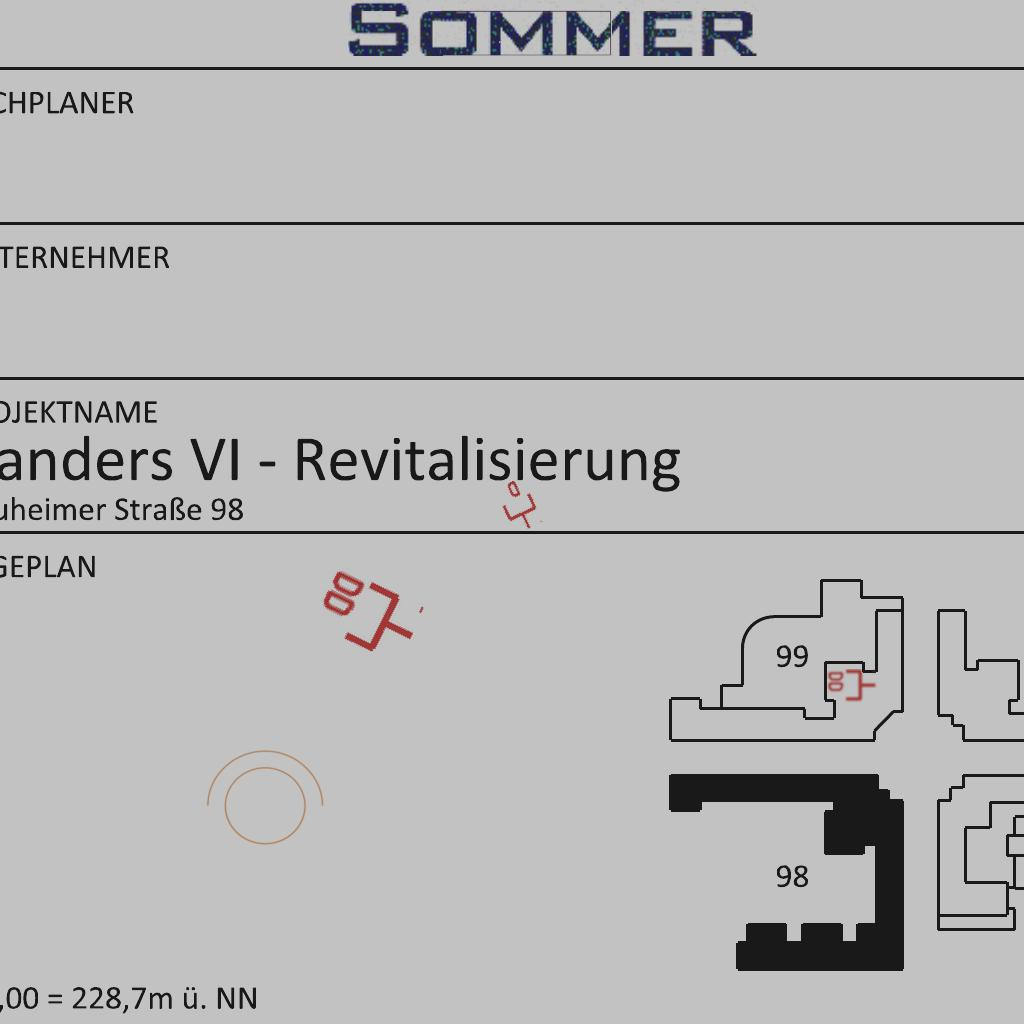Datenanschluss_einfach: (493, 476, 545, 536)
Datenanschluss_zweifach: (306, 562, 429, 671), (826, 669, 877, 703)
Scheinwerfer_fuer_Alarmbeleuchtung: (196, 745, 328, 857)
